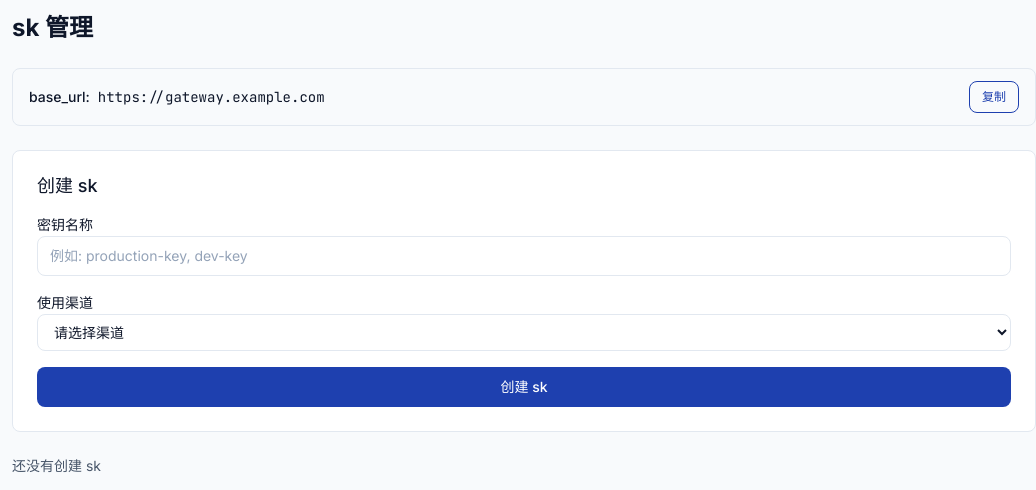
Test case: KeysPage - baseUrl display › shows error toast when copy fails
Expected: the text "https://gateway.example.com" is shown, [98,87,325,107]
Click the button "复制". click: [994, 97]
box: [969,81,1019,113]
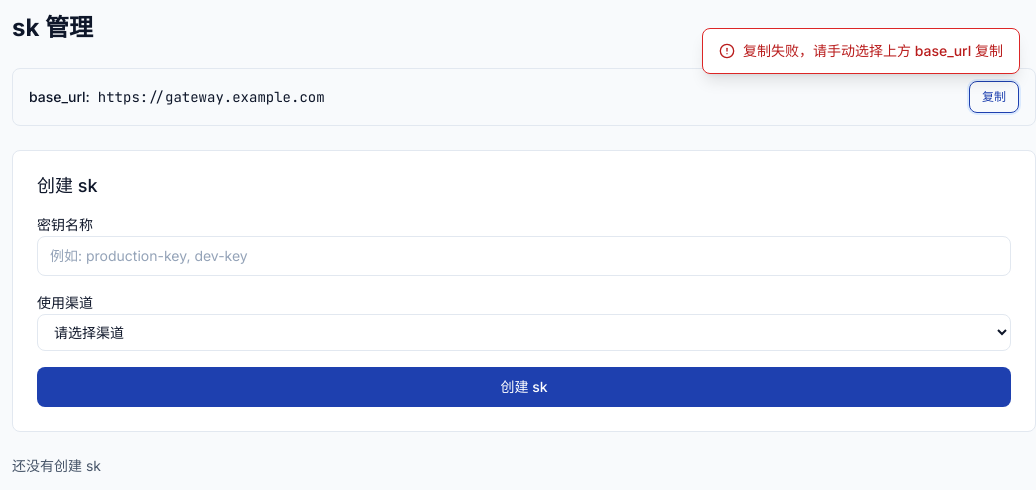
Expected: the text "复制失败，请手动选择上方 base_url 复制" is shown, [743,41,1003,61]
